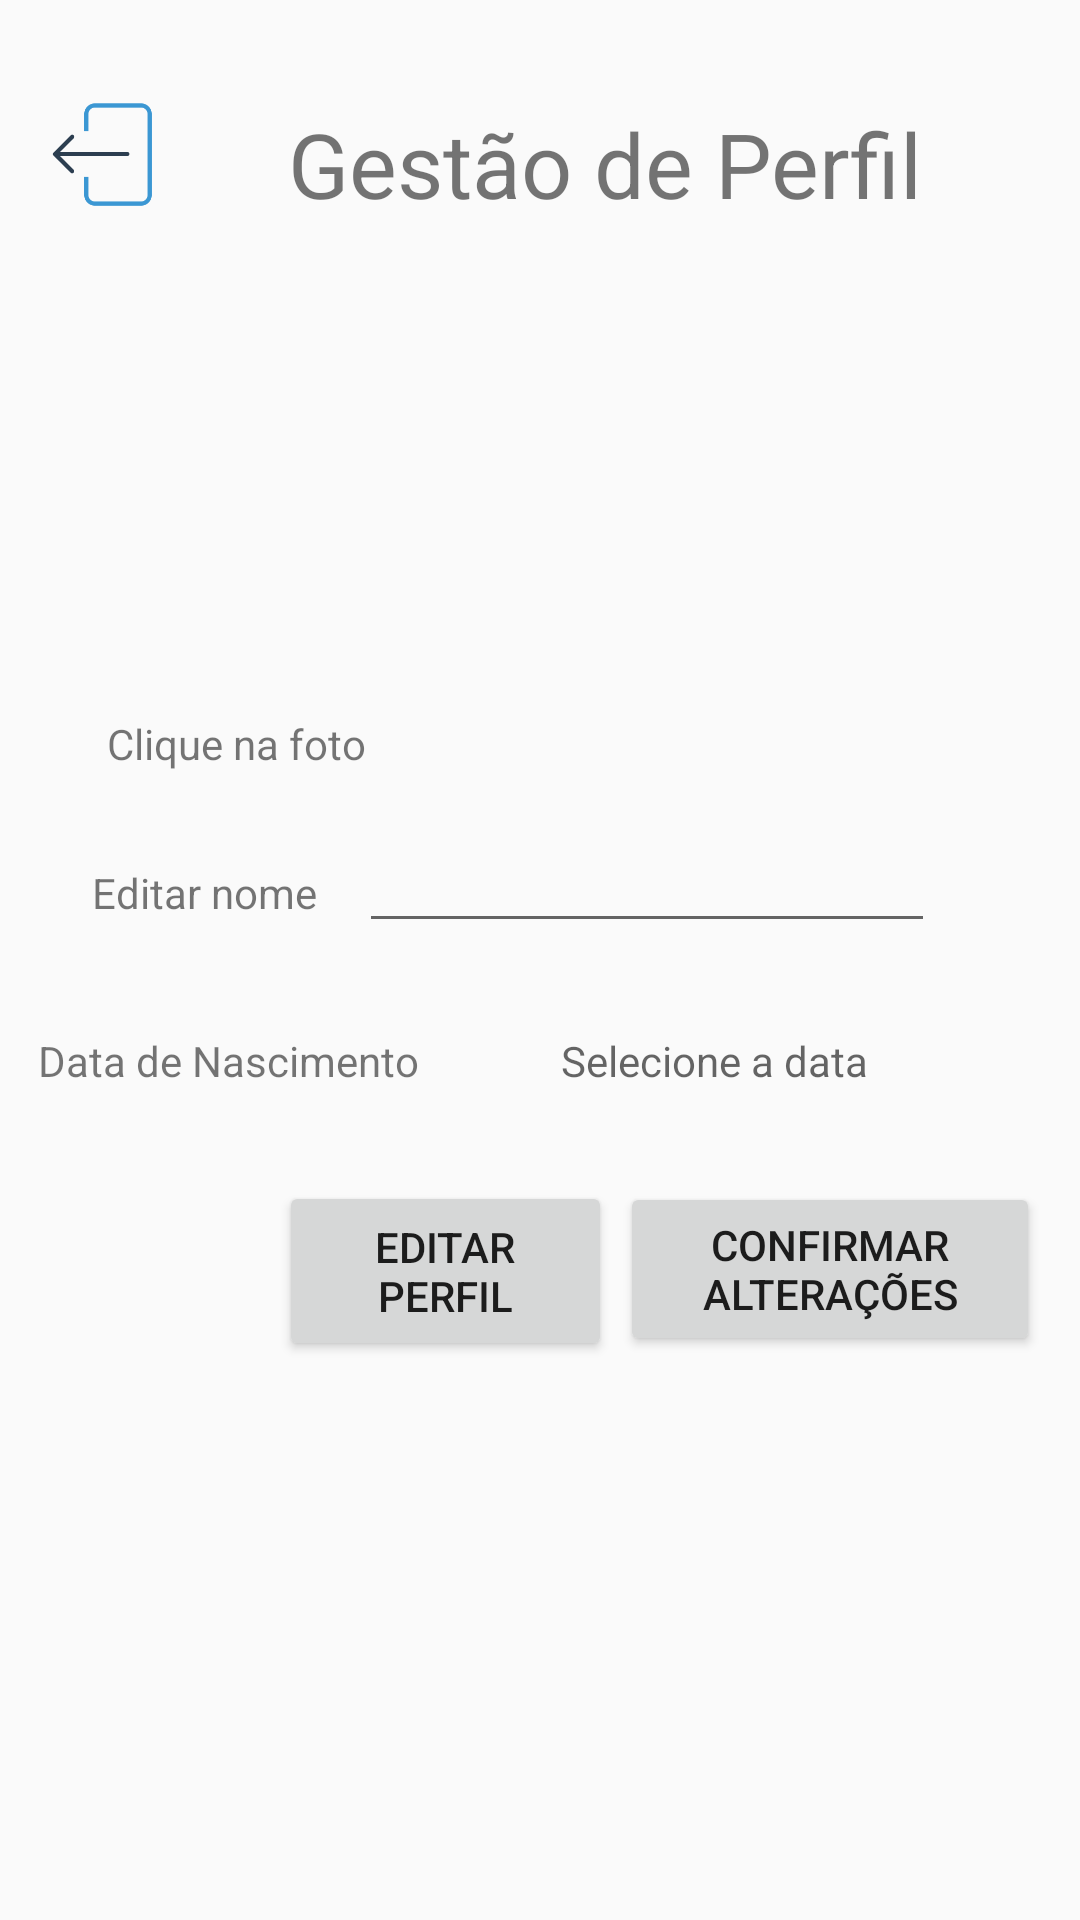

Icons on this 1080x1920 Android screen, each with its box as (x1, y1, x2, y2):
voltar: (53, 103, 152, 206)
